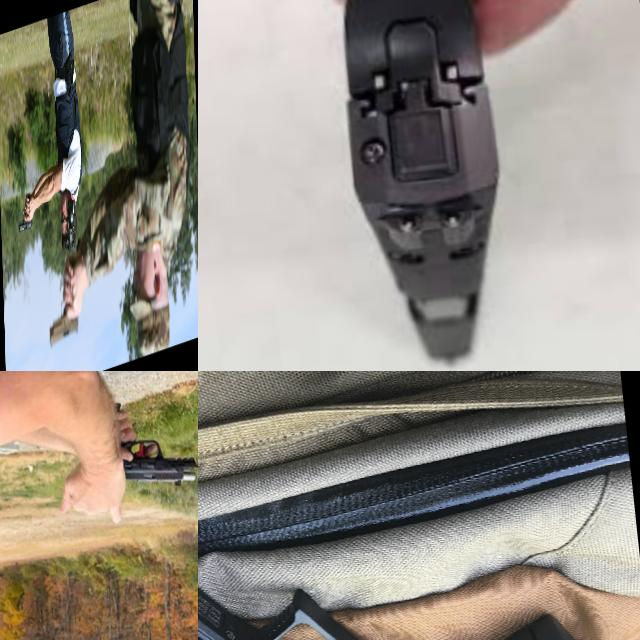handgun: (315, 0, 527, 371), (198, 474, 640, 640), (92, 383, 198, 496), (46, 252, 80, 350), (17, 190, 33, 235)
